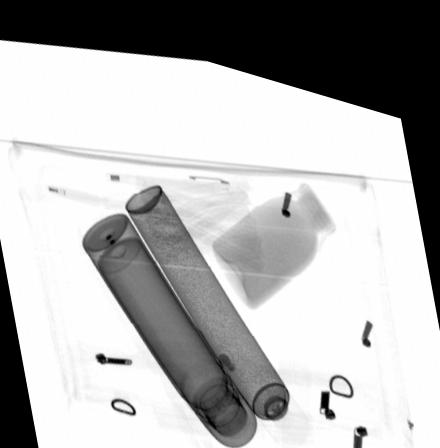Sprayer: (122, 173, 310, 434)
